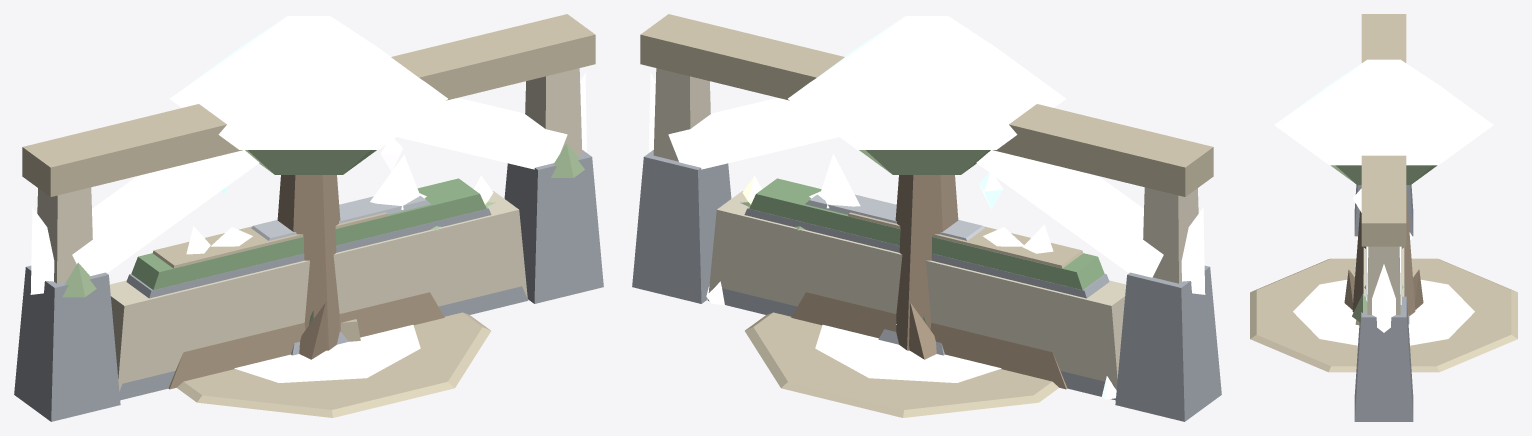
The model's file is moba_kit3.glb.
3 views of the same model, side by side, from view 1: azimuth 30°, elevation 25°; view 2: azimuth 150°, elevation 25°; view 3: azimuth 270°, elevation 25° (orthographic). The views are drawn at different scales.
Parts seen in each view (by area): view 1: mv3_crystal_arch, mv3_spore_tree_giant, mv3_wall_ruin, mv3_ruin_gate, mv3_camp_shrine, mv3_wall_spore, mv3_wall_crystal; view 2: mv3_crystal_arch, mv3_spore_tree_giant, mv3_wall_ruin, mv3_ruin_gate, mv3_camp_shrine, mv3_wall_spore, mv3_wall_crystal; view 3: mv3_camp_shrine, mv3_spore_tree_giant, mv3_ruin_gate, mv3_crystal_arch, mv3_wall_ruin.
Part boxes in pixels (x1,y1,x2,y2): mv3_crystal_arch: [14, 72, 603, 421]; mv3_spore_tree_giant: [170, 16, 447, 359]; mv3_wall_ruin: [110, 191, 527, 392]; mv3_ruin_gate: [22, 14, 595, 297]; mv3_camp_shrine: [177, 175, 493, 417]; mv3_wall_spore: [131, 178, 486, 389]; mv3_wall_crystal: [119, 155, 528, 400]; mv3_crystal_arch: [632, 72, 1221, 421]; mv3_spore_tree_giant: [788, 16, 1065, 359]; mv3_wall_ruin: [708, 191, 1125, 389]; mv3_ruin_gate: [640, 14, 1213, 283]; mv3_camp_shrine: [742, 175, 1058, 417]; mv3_wall_spore: [749, 178, 1104, 389]; mv3_wall_crystal: [707, 154, 1115, 400]; mv3_camp_shrine: [1250, 258, 1517, 372]; mv3_spore_tree_giant: [1274, 59, 1493, 315]; mv3_ruin_gate: [1352, 14, 1406, 322]; mv3_crystal_arch: [1354, 184, 1413, 421]; mv3_wall_ruin: [1363, 247, 1404, 296].
Bounding box in the file's own units: 10.82 × 5.88 × 5.73.
